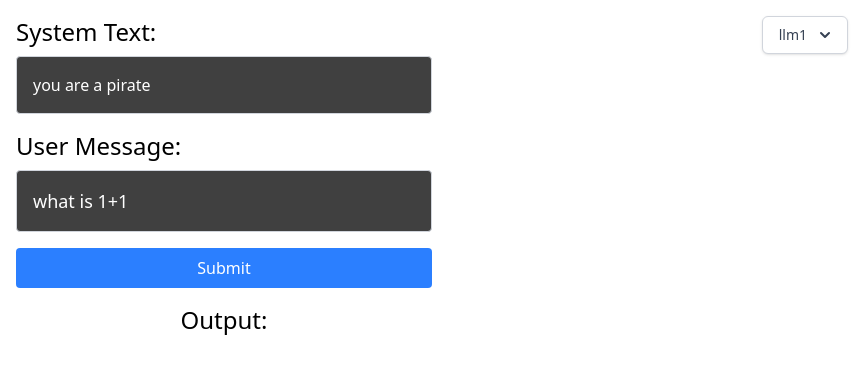
Test case: App Component › handles prompt submission successfully
What coordinates should you click on to do the following:
click the button "Submit"
I would click on:
 (224, 268)
Its box is left=16, top=248, right=432, bottom=288.
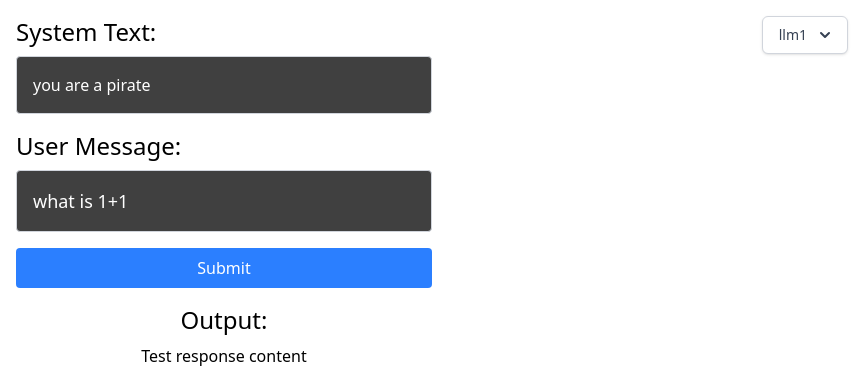
Now the text "Test response content" is shown, box left=141, top=345, right=307, bottom=367
